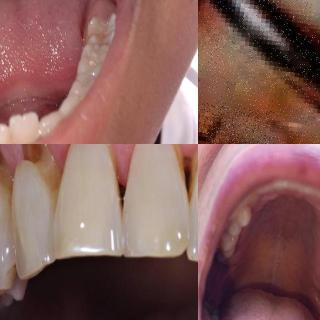Gum Swelling: (110, 144, 135, 181)
cavities: (198, 101, 294, 144), (202, 302, 220, 318)
maligned: (6, 106, 46, 144), (0, 122, 12, 144)
stains: (165, 149, 188, 193), (189, 157, 198, 205)
